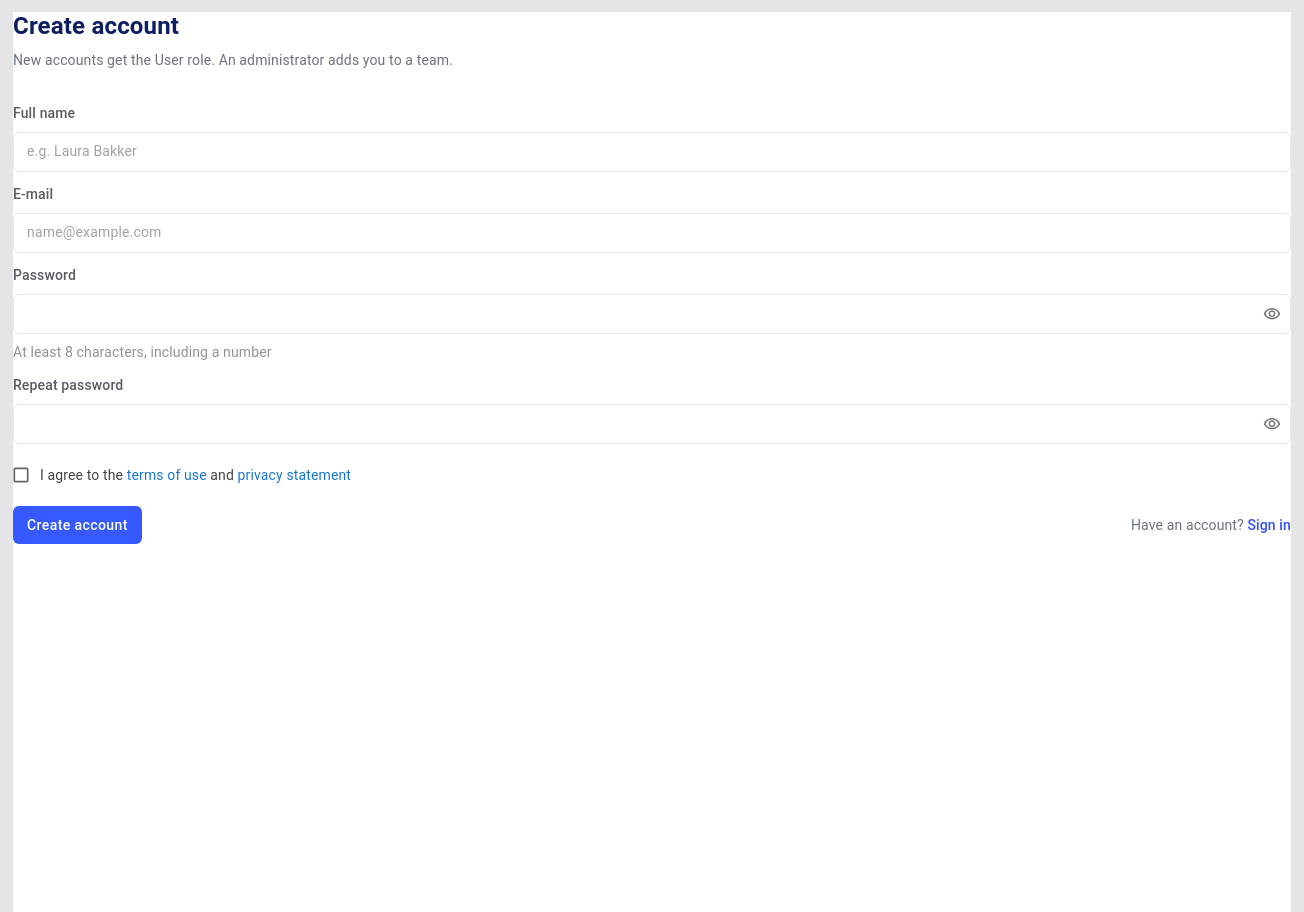
CreateAccountForm validation › rejects passwords that don't match
Type "Laura" into the field labelled "Full name" at (652, 152), box top-left (13, 132), bottom-right (1291, 172)
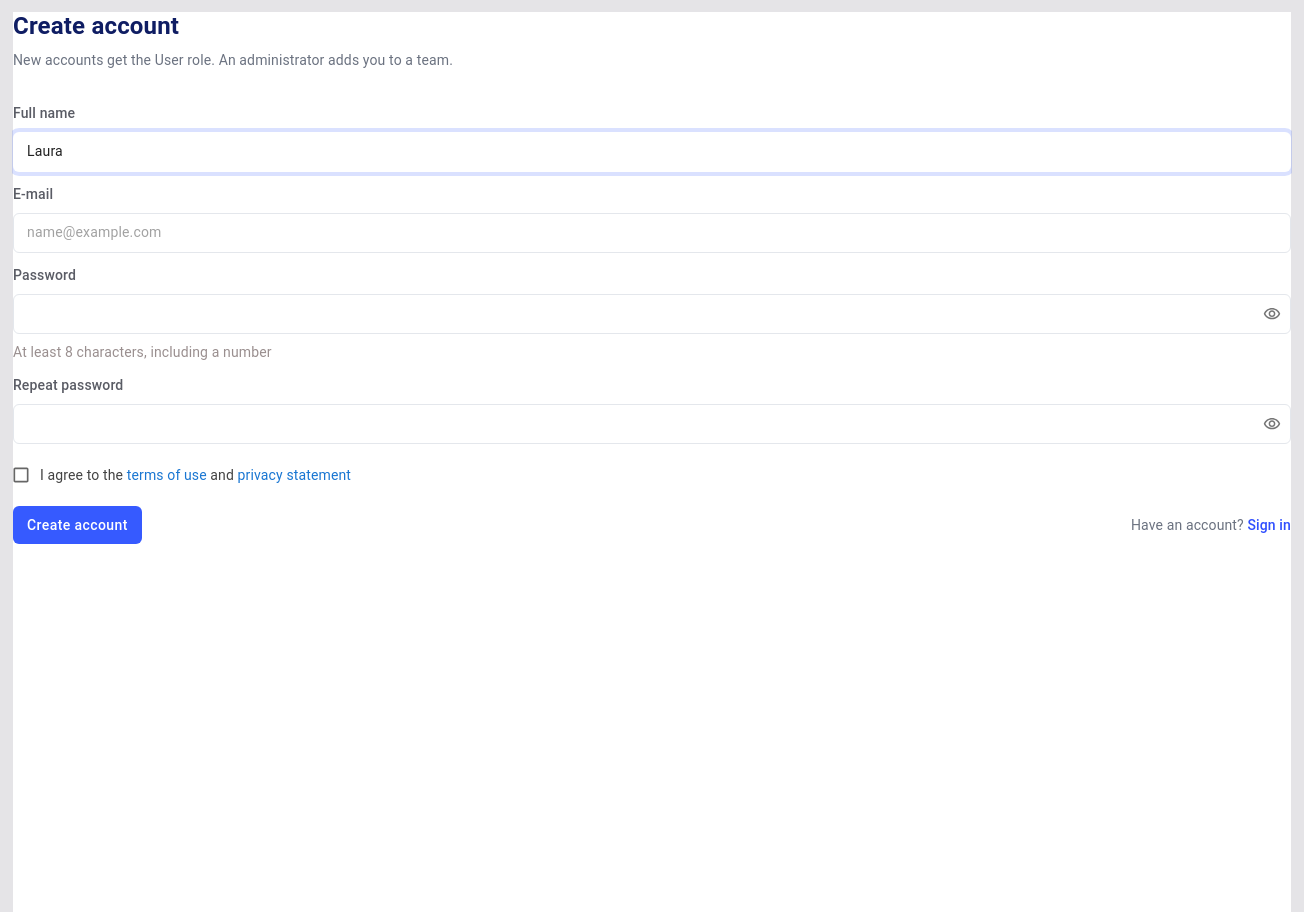
Type "laura@example.com" into the field labelled "E-mail" at (652, 233), box top-left (13, 213), bottom-right (1291, 253)
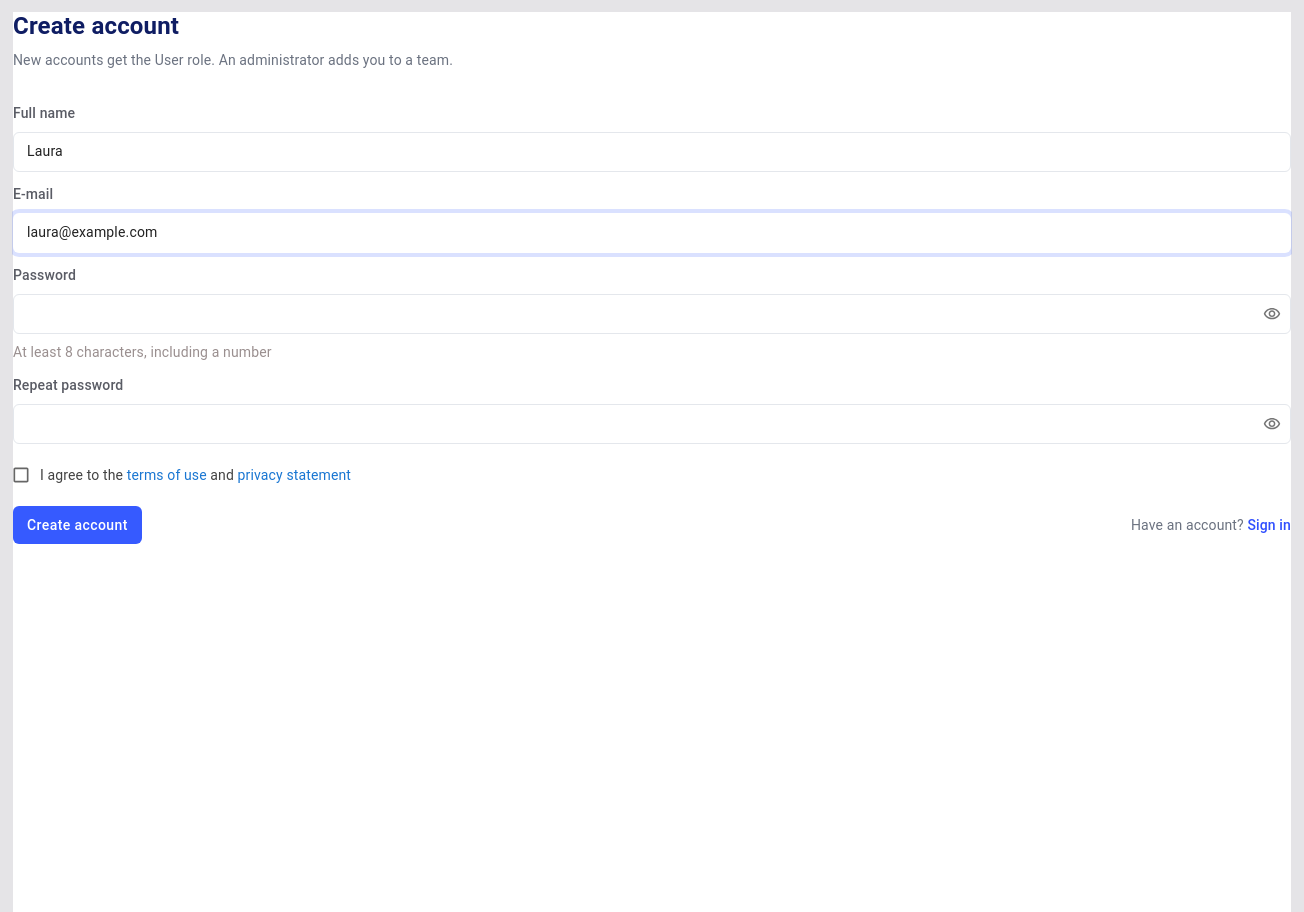
Type "Secret123" into the password field labelled "Password" at (630, 314), box top-left (13, 294), bottom-right (1247, 334)
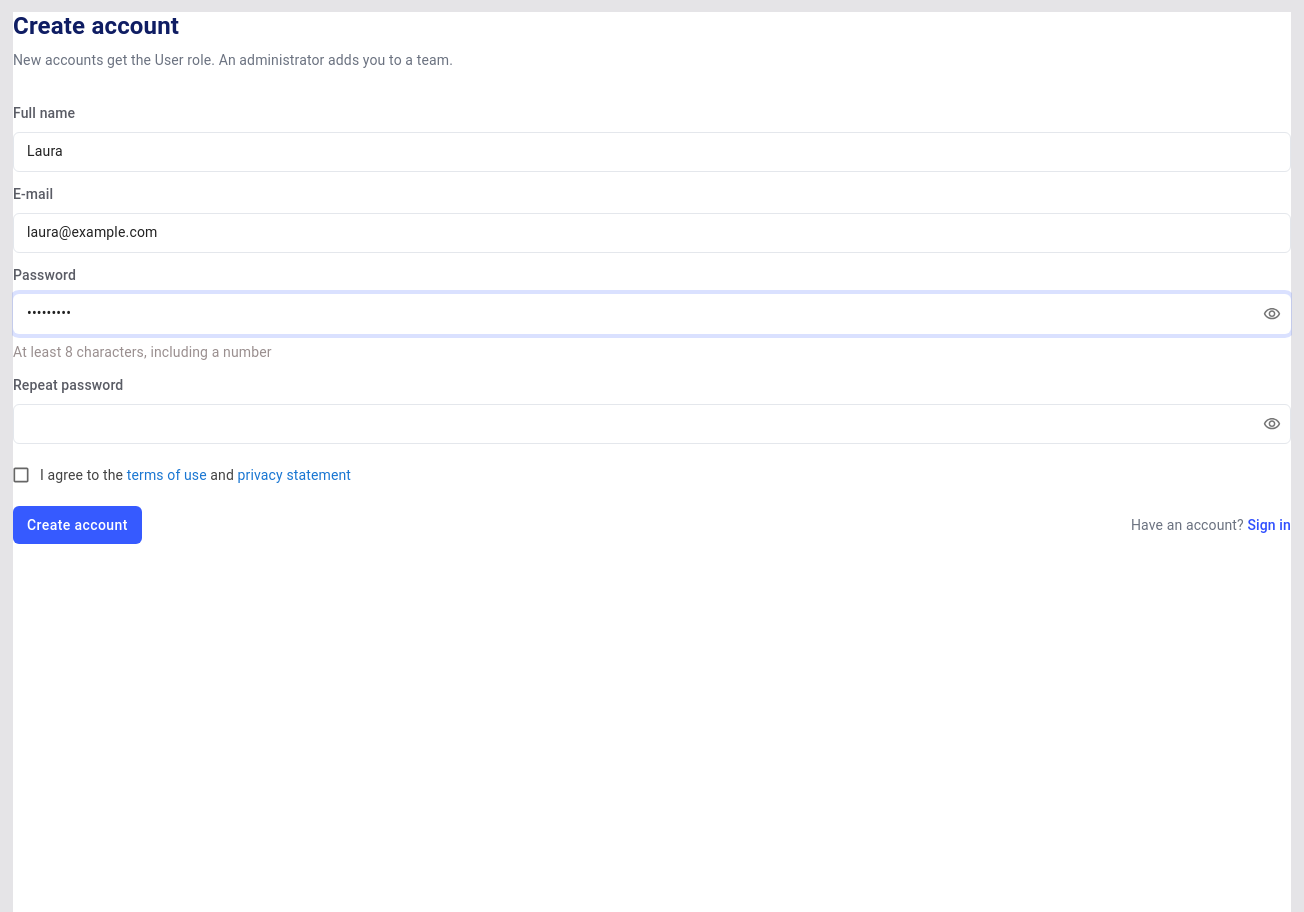
Type "Secret124" into the password field labelled "Repeat password" at (630, 424), box top-left (13, 404), bottom-right (1247, 444)
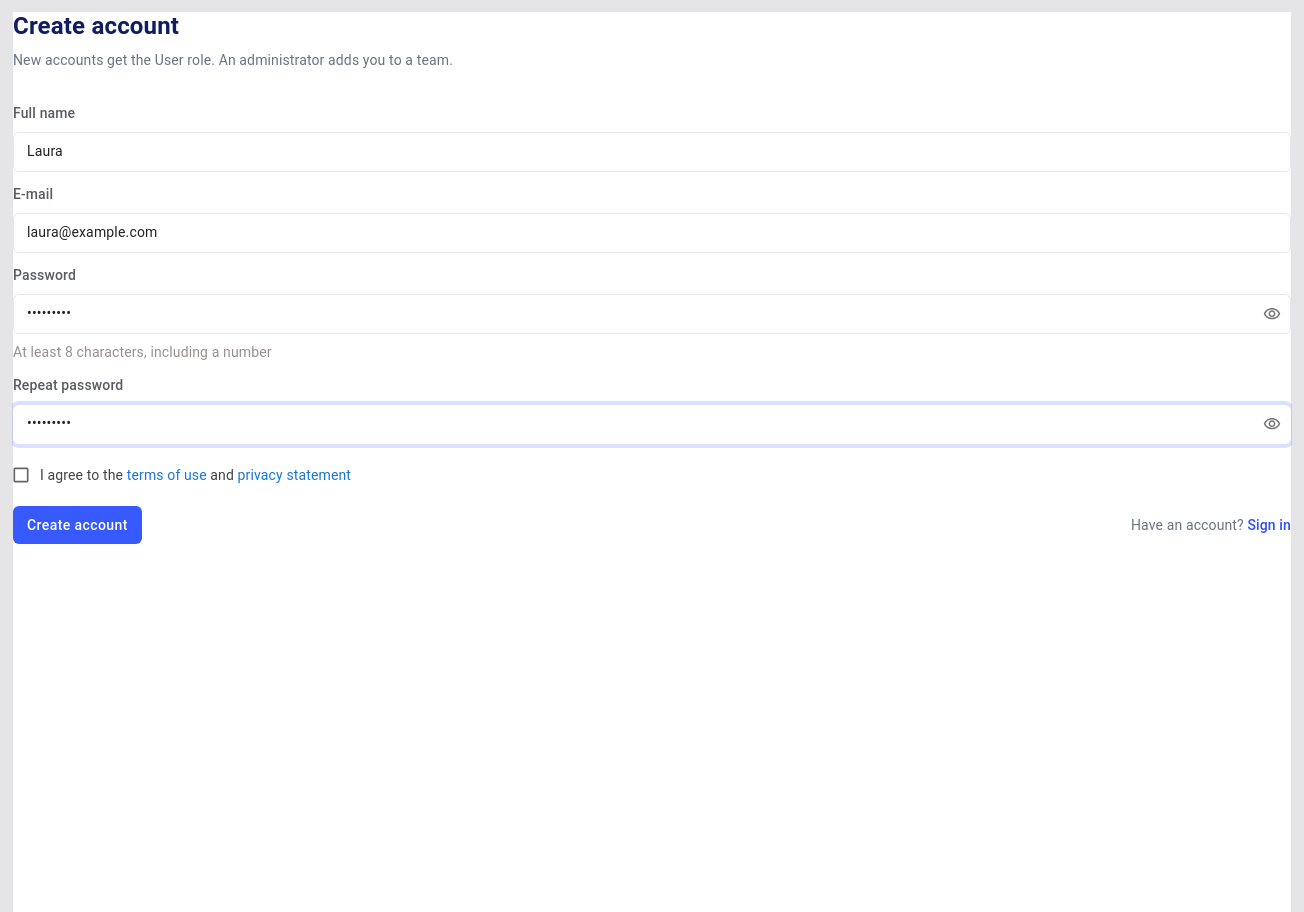
Click the checkbox at (181, 475), box top-left (11, 465), bottom-right (351, 485)
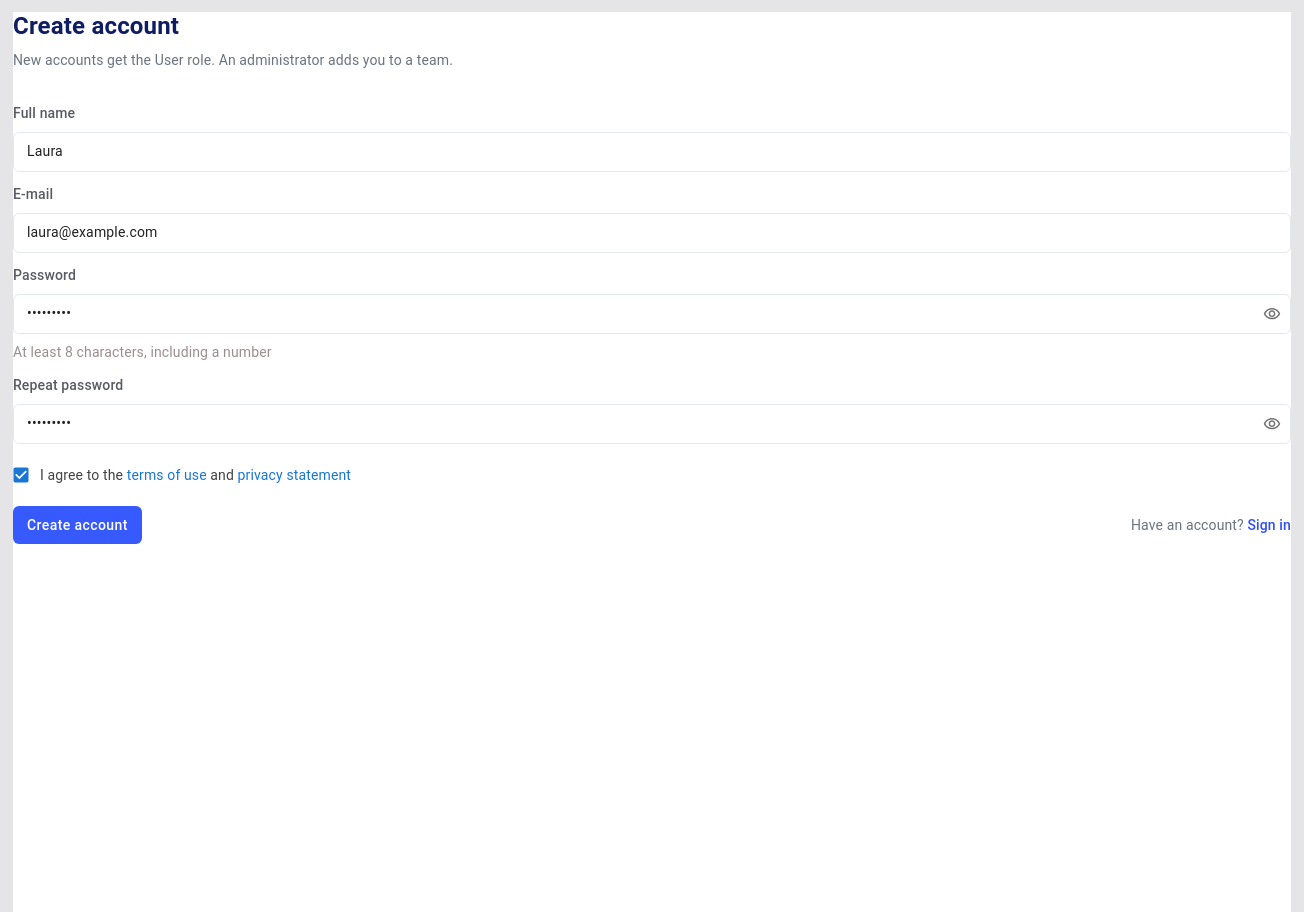
Click the button "Create account" at (77, 525), box top-left (13, 506), bottom-right (142, 544)
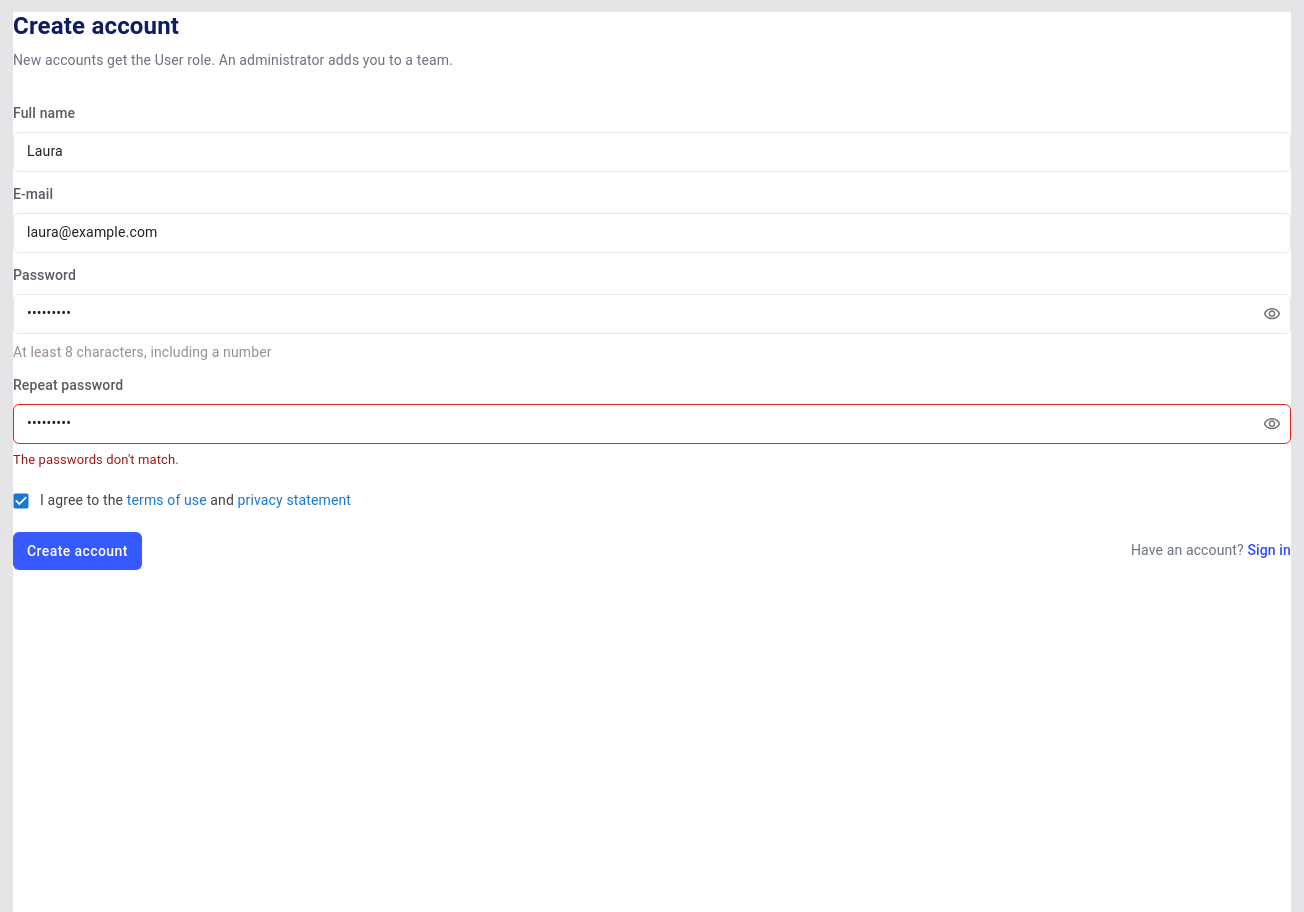
Now the text "The passwords don't match." is shown, box top-left (13, 452), bottom-right (179, 467)
